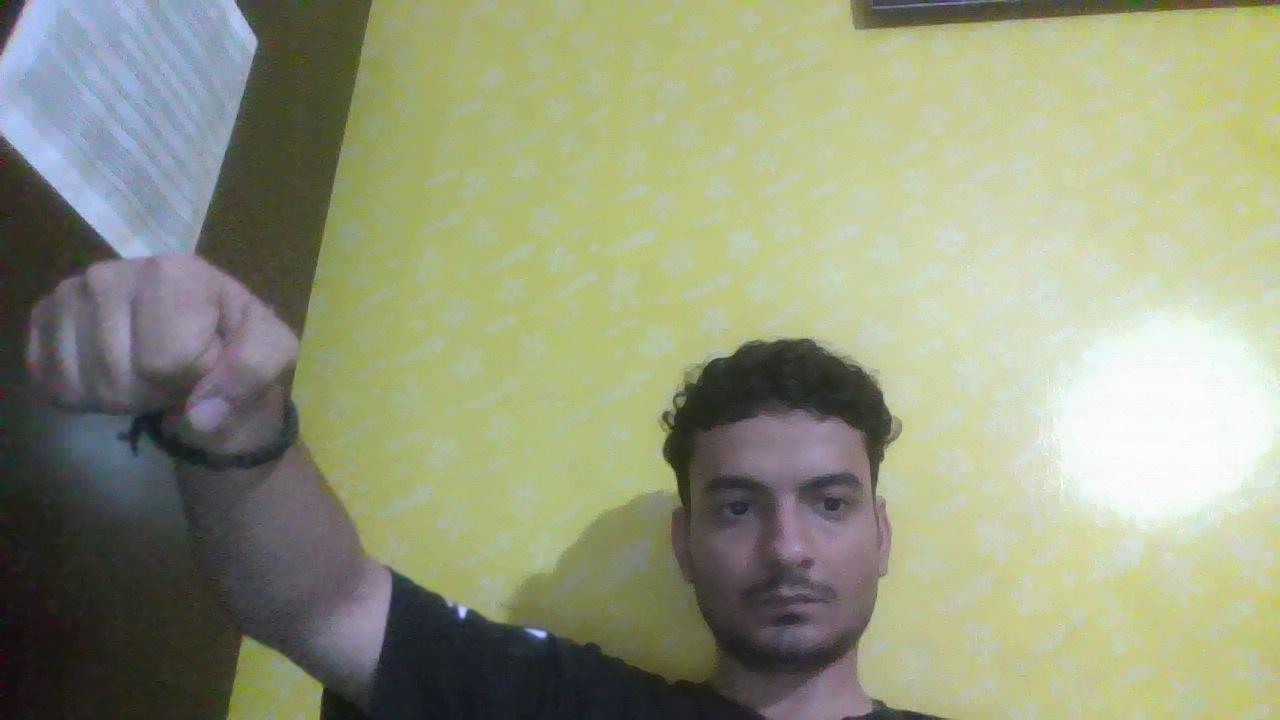Yes: (11, 239, 335, 470)
